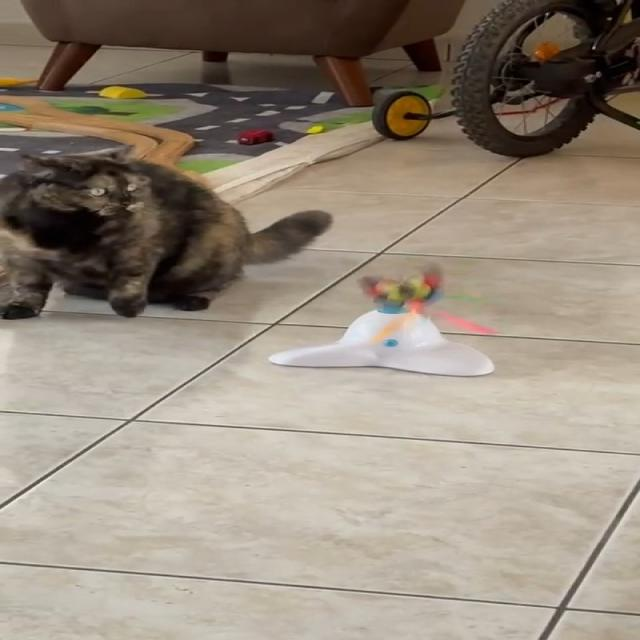authorized: (0, 144, 332, 318)
